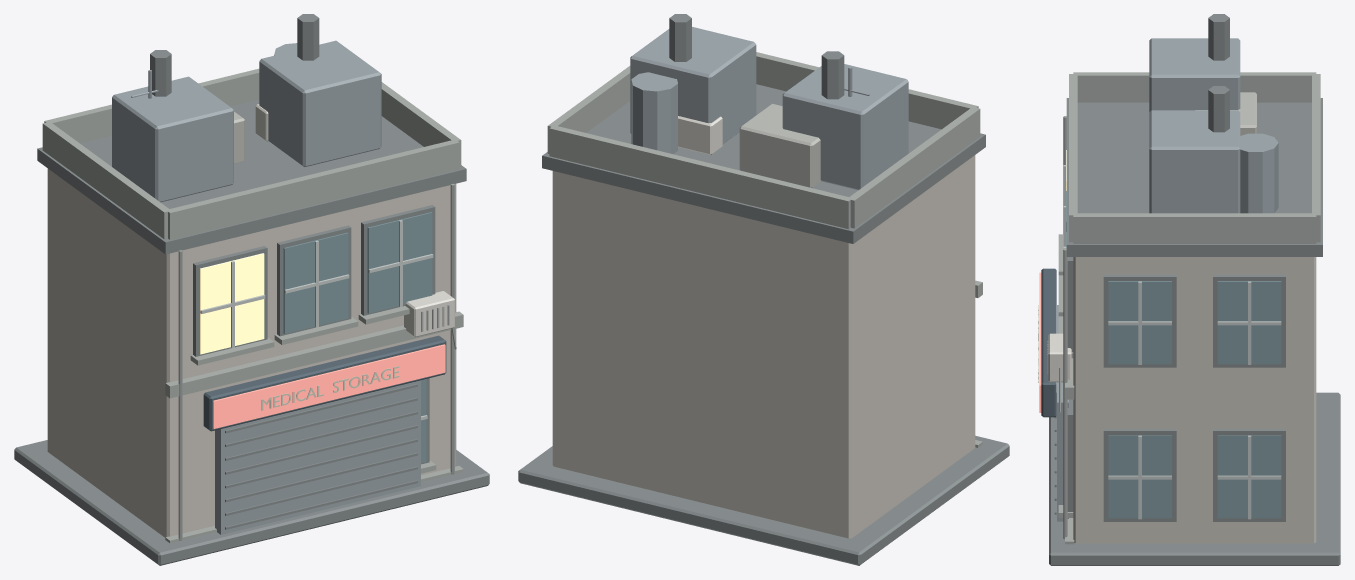
The model's file is SM_ENV_Building_11_MedicalStorage.glb.
3 renders of one model, left to right at view 1: azimuth 30°, elevation 25°; view 2: azimuth 150°, elevation 25°; view 3: azimuth 270°, elevation 25°, orthographic. The views are drawn at different scales.
Visible parts, largest first — view 1: SM_ENV_Building_11_MedicalStorage; view 2: SM_ENV_Building_11_MedicalStorage; view 3: SM_ENV_Building_11_MedicalStorage.
Part boxes in pixels (box(x1,y1,x2,y2)): SM_ENV_Building_11_MedicalStorage: box(14, 14, 489, 565); SM_ENV_Building_11_MedicalStorage: box(518, 14, 1009, 565); SM_ENV_Building_11_MedicalStorage: box(1038, 14, 1340, 565).
Size of the model in its own units: 6.3 by 7.8 by 4.98.
